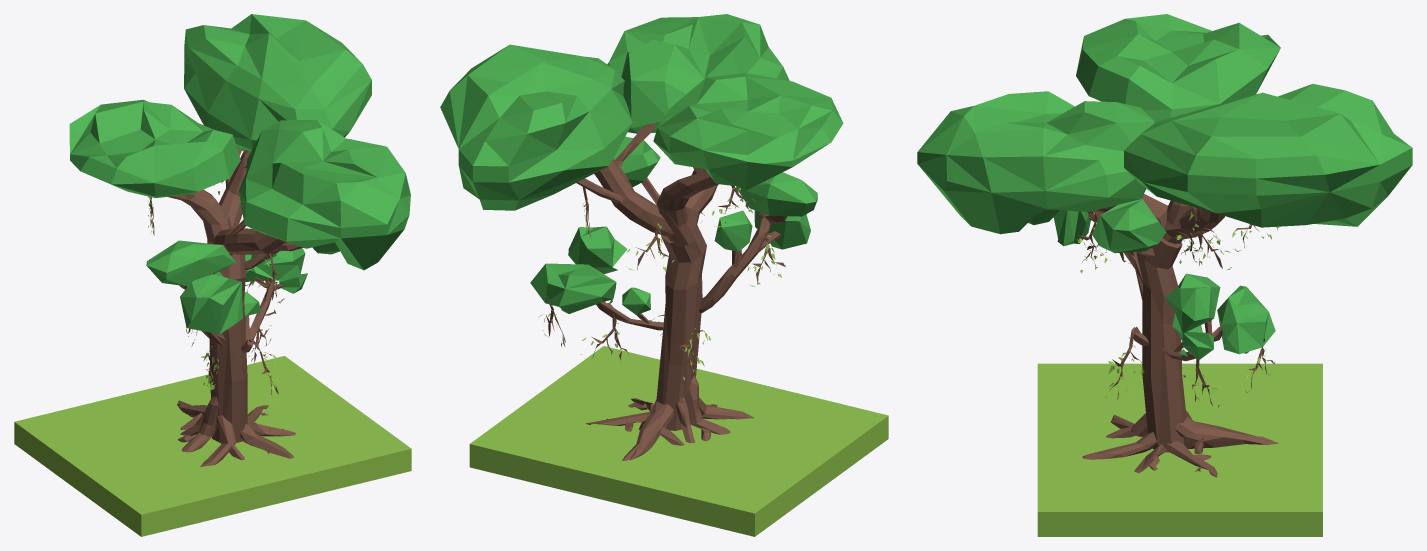
Rendered from vine-tree.glb.
The picture shows the model from 3 angles, left to right: view 1: azimuth 30°, elevation 25°; view 2: azimuth 150°, elevation 25°; view 3: azimuth 270°, elevation 25°; orthographic projection. The views are drawn at different scales.
Visible parts, largest first — view 1: group470830306, group1824895846, group1718750042; view 2: group470830306, group1824895846, group1718750042; view 3: group470830306, group1824895846, group1718750042.
Part boxes in pixels (x1,y1,x2,y2): group470830306: (69,14,410,334); group1824895846: (14,180,411,536); group1718750042: (150,148,302,466); group470830306: (440,14,843,314); group1824895846: (469,187,888,536); group1718750042: (546,123,787,460); group470830306: (917,14,1412,359); group1824895846: (1037,211,1322,536); group1718750042: (1076,194,1279,477).
Bounding box in the file's own units: 1.16 × 1.35 × 1.44.
